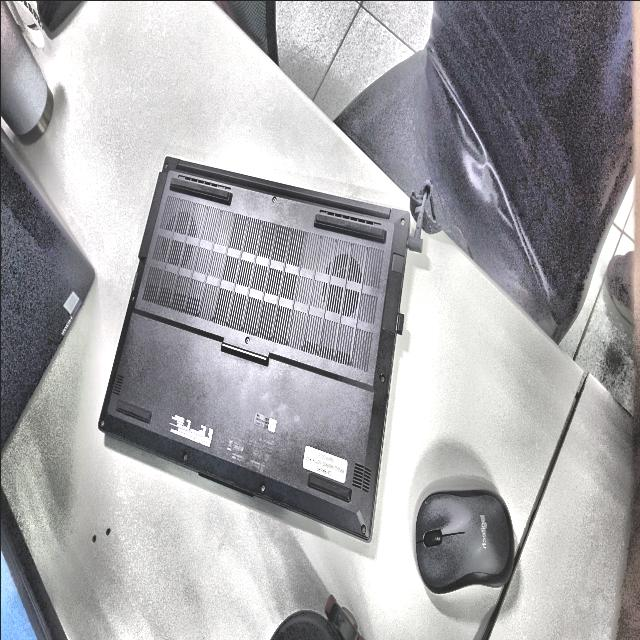laptop: (99, 157, 407, 540)
